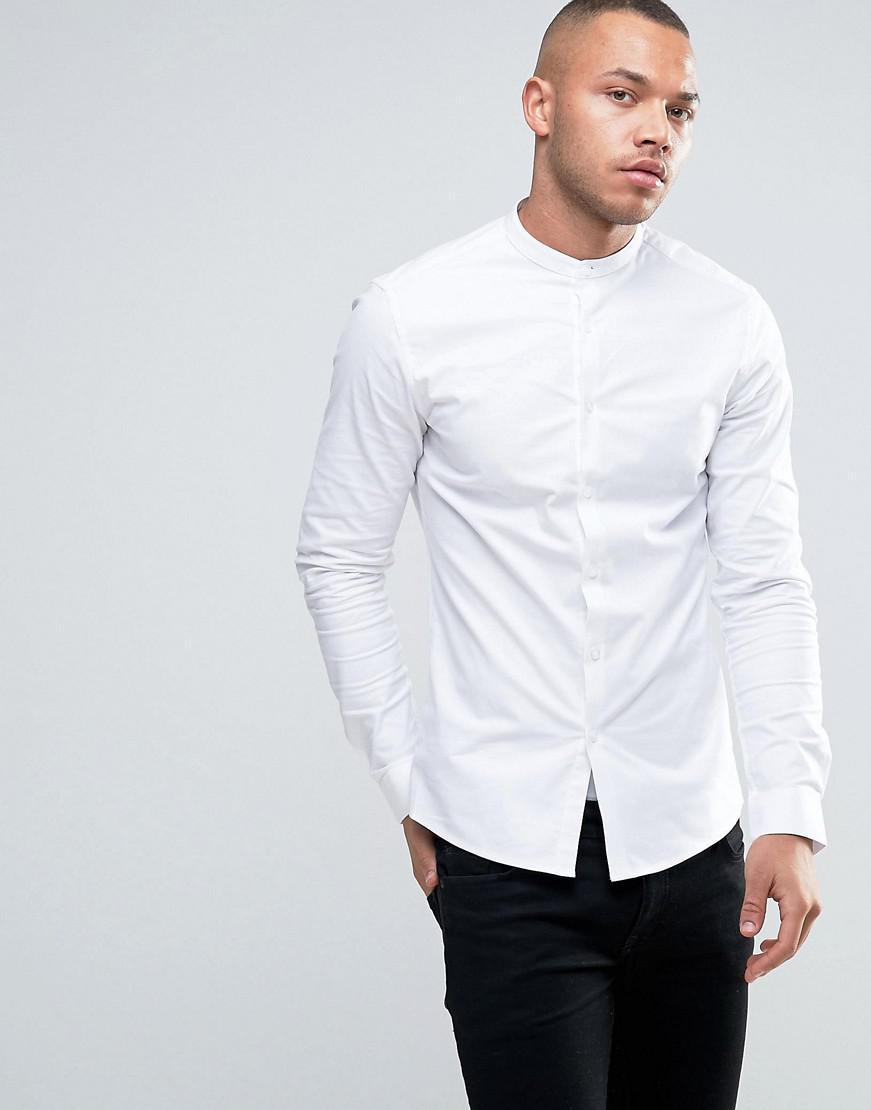teeshirt: (285, 200, 857, 886)
